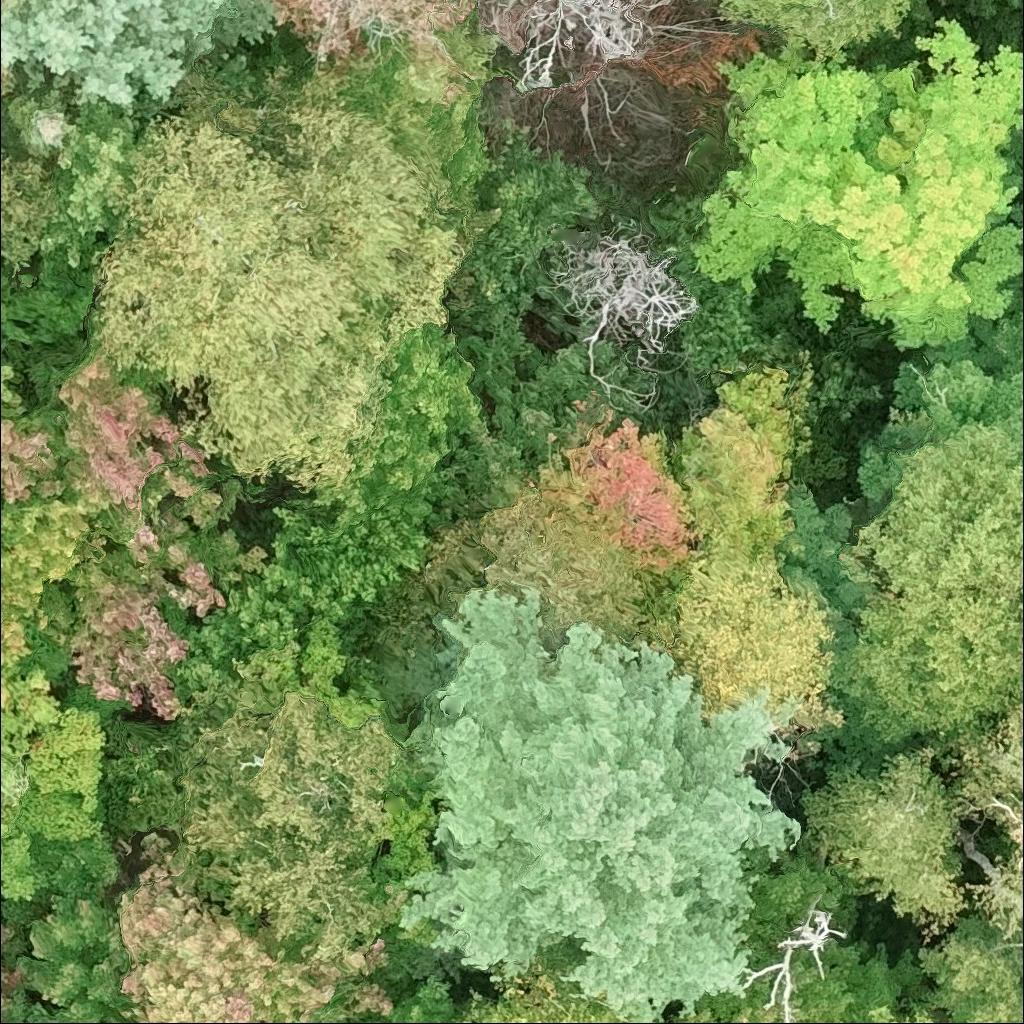crown: (398, 584, 803, 1023), (94, 57, 468, 491), (687, 14, 1023, 358), (178, 657, 403, 963), (836, 418, 1023, 770), (114, 830, 396, 1023), (53, 335, 246, 573), (268, 0, 506, 193), (66, 498, 271, 720), (417, 498, 674, 649), (855, 277, 1023, 504), (654, 537, 844, 730), (800, 745, 977, 944), (444, 122, 605, 330), (306, 323, 481, 512), (526, 411, 697, 587), (672, 353, 815, 555), (0, 648, 107, 904), (33, 89, 174, 269), (496, 0, 740, 96), (0, 479, 117, 678), (550, 221, 699, 376), (651, 191, 764, 372), (270, 500, 433, 604), (918, 869, 1023, 1023), (947, 692, 1023, 893), (16, 892, 131, 1023), (188, 555, 320, 666), (740, 907, 847, 1023), (0, 352, 78, 507), (715, 0, 913, 56), (458, 965, 618, 1023), (0, 139, 59, 269), (0, 67, 76, 161), (350, 975, 468, 1023), (0, 922, 56, 1023), (790, 962, 856, 1023), (848, 1000, 952, 1023), (729, 998, 782, 1023), (661, 1008, 723, 1023), (0, 69, 7, 98), (1016, 203, 1023, 222), (0, 282, 4, 312), (1021, 608, 1023, 648), (1018, 268, 1023, 280)
